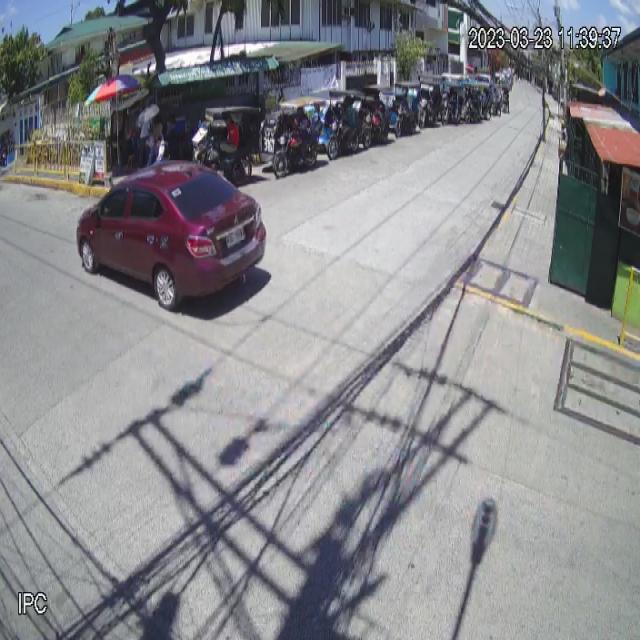Car: (76, 160, 268, 317)
